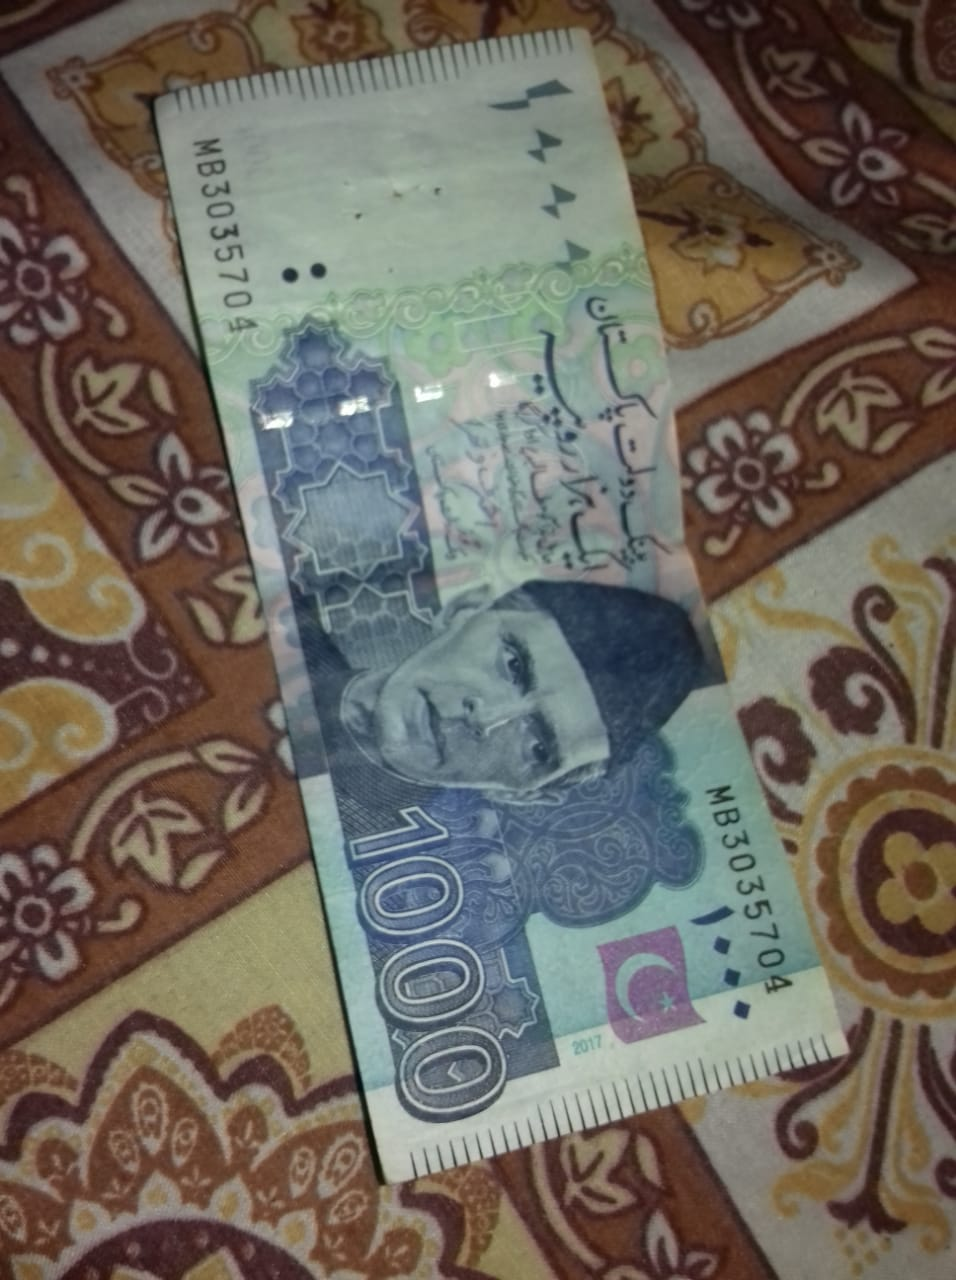1000 rupee: (146, 0, 876, 1217)
